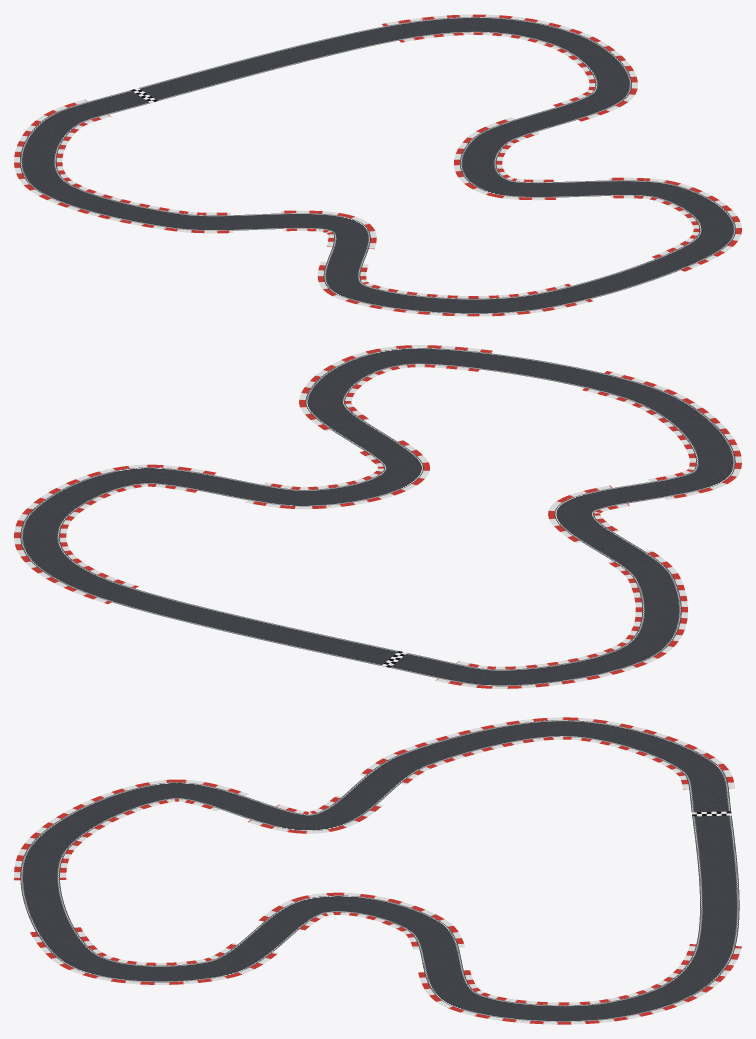
The model's file is KartRing.glb.
3 renders of one model, top to bottom at view 1: azimuth 30°, elevation 25°; view 2: azimuth 150°, elevation 25°; view 3: azimuth 270°, elevation 25°, orthographic. The views are drawn at different scales.
Parts seen in each view (by area): view 1: Road, Curbs; view 2: Road, Curbs; view 3: Road, Curbs.
Part boxes in pixels (left/top/right/bottom): Road: left=20, top=17, right=735, bottom=313; Curbs: left=14, top=14, right=741, bottom=316; Road: left=20, top=348, right=735, bottom=686; Curbs: left=14, top=345, right=741, bottom=688; Road: left=20, top=720, right=739, bottom=1021; Curbs: left=14, top=717, right=741, bottom=1024.
Size of what is drawn, in the model's own units: 147 by 0.04 by 147.
Materials: 3 (3 with a texture image).
